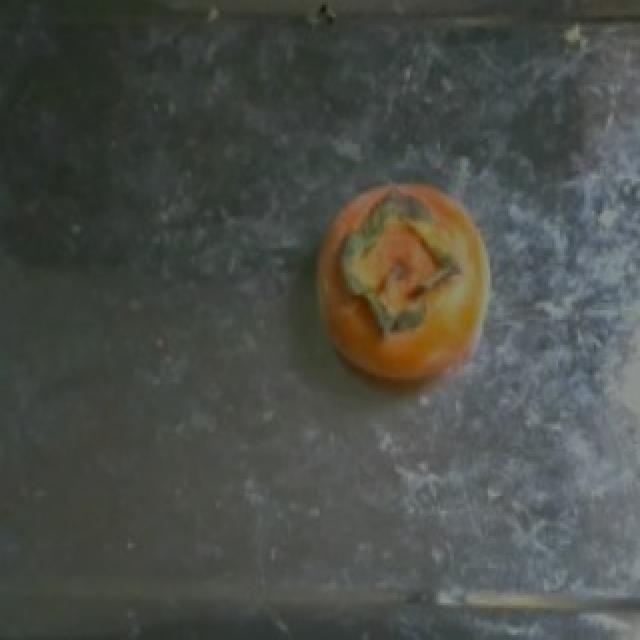Fruit: (294, 164, 508, 416)
